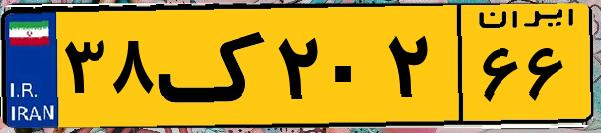0: (330, 28, 385, 110)
2: (270, 28, 330, 110), (385, 28, 445, 110)
3: (57, 26, 110, 100)
6: (475, 38, 525, 113), (525, 38, 570, 115)
8: (110, 28, 158, 98)
ک: (158, 12, 270, 120)
